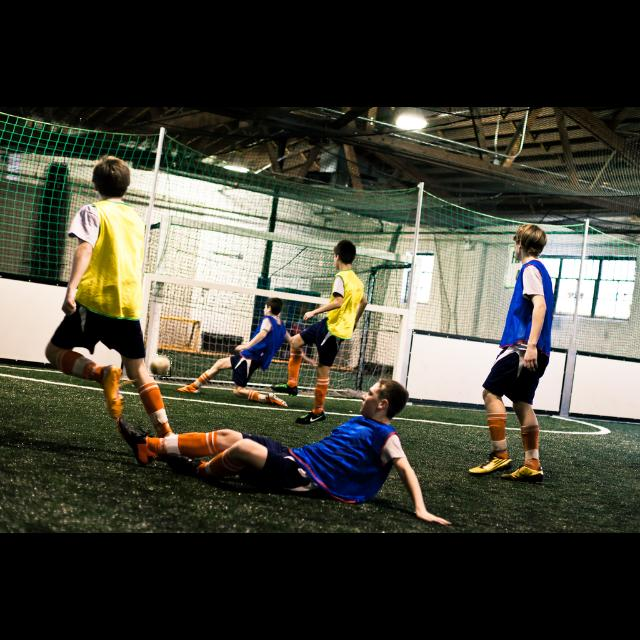Football: (149, 355, 171, 377)
